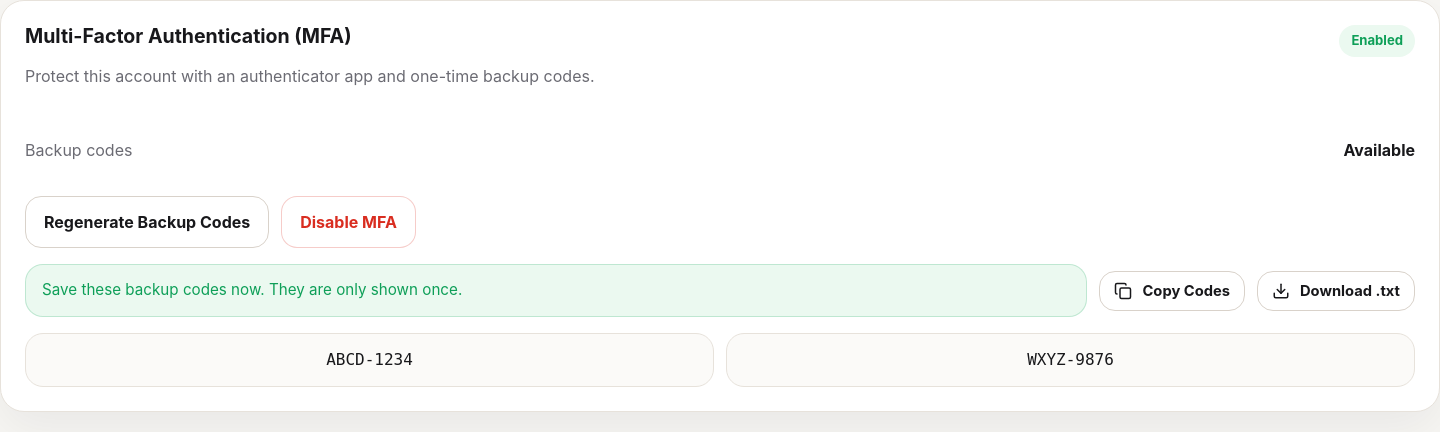
Test: SecurityMfaCard › copies visible backup codes
Click the button "Copy Codes" at (1172,291), box [1100, 271, 1245, 311]
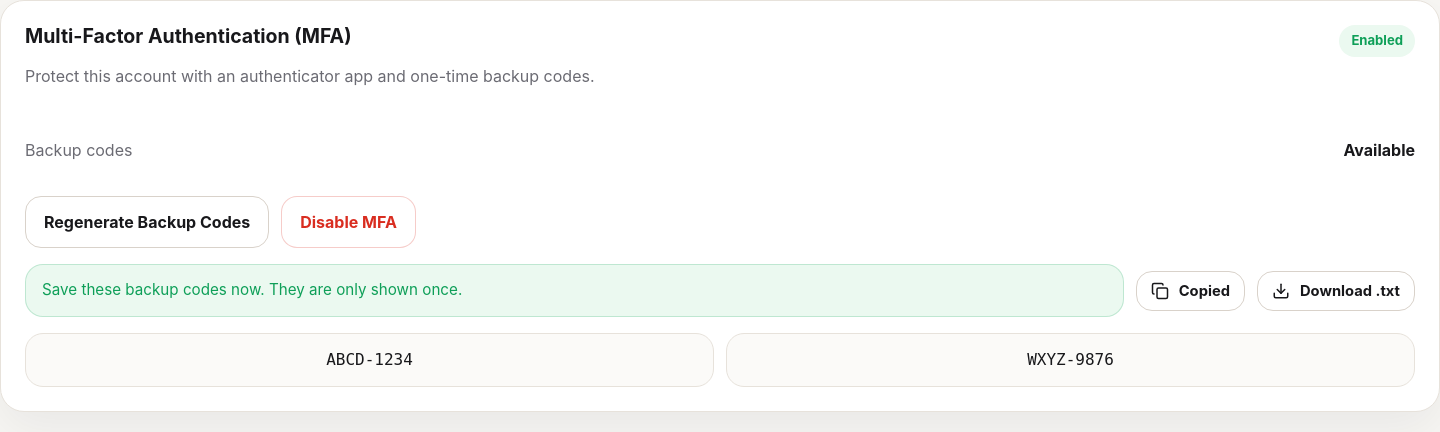
Expected: the text "Copied" is shown, [1179, 280, 1230, 302]
